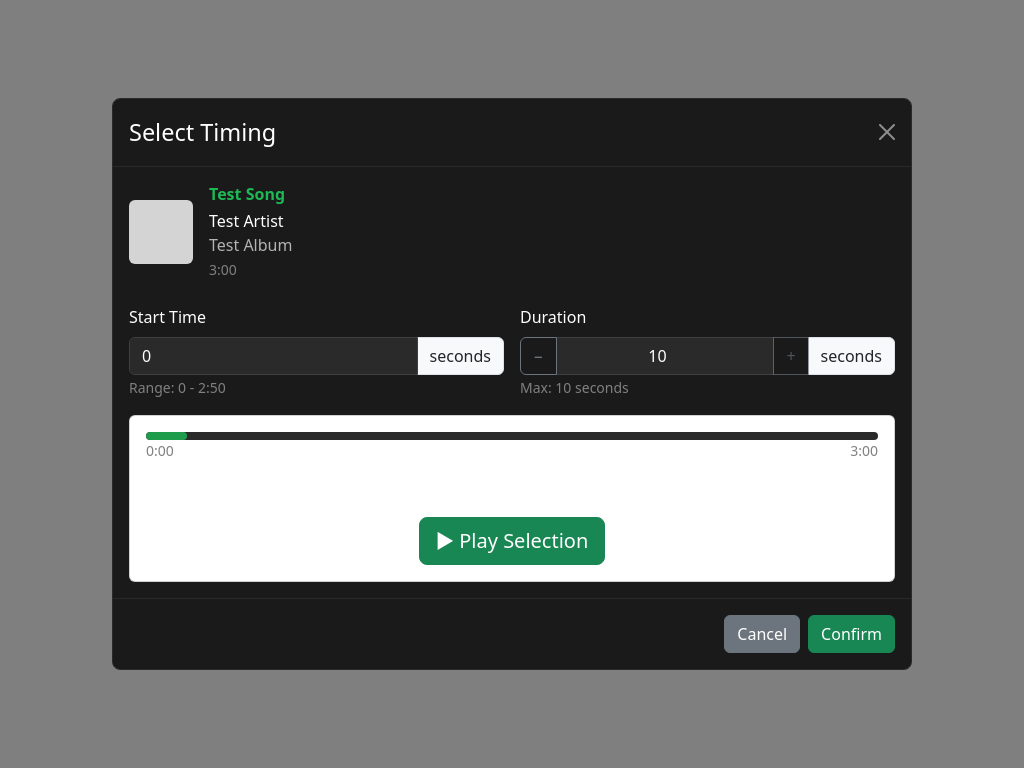
Test: SegmentSelector › should handle playback errors gracefully
The image size is (1024, 768).
What coordinates should you click on to do the following:
click the button "▶ Play Selection"
I would click on:
 (512, 541)
Its box is left=419, top=517, right=605, bottom=565.
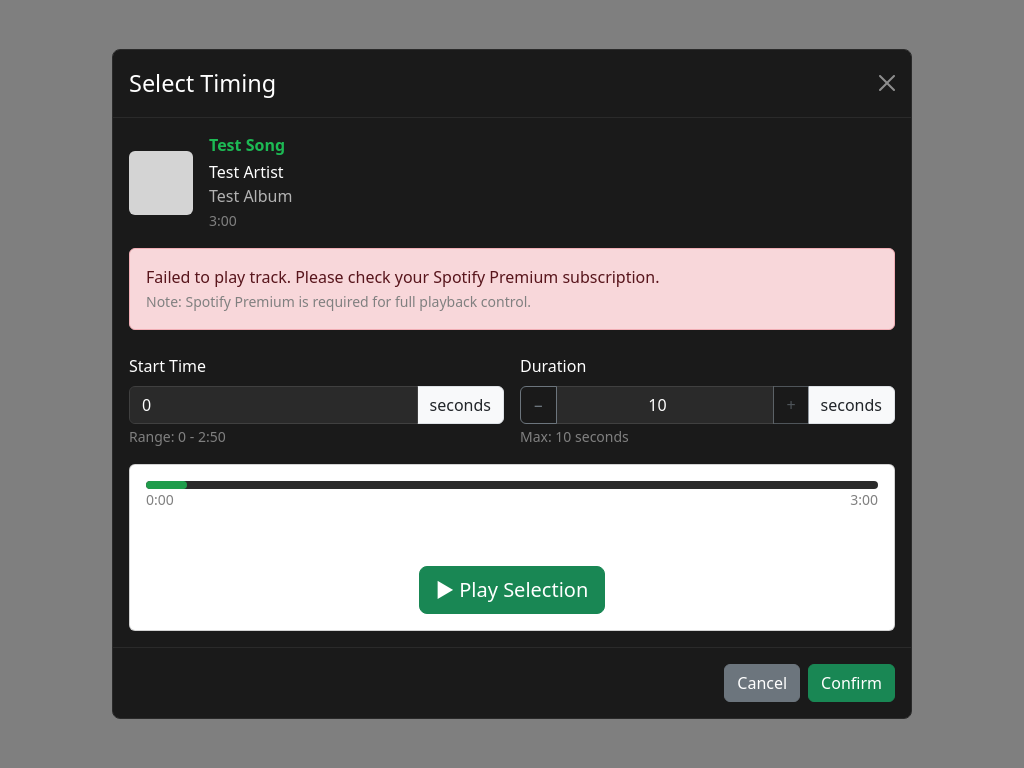
Expected: the text "Failed to play track" is shown, left=146, top=266, right=660, bottom=288
